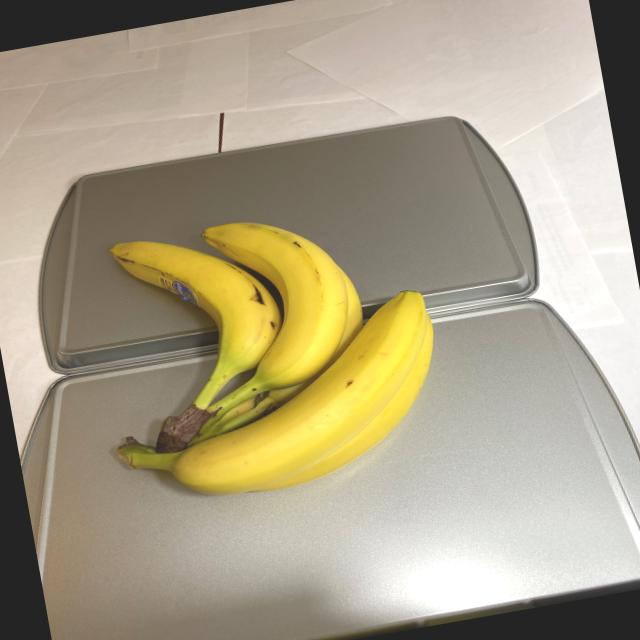banana: (93, 188, 460, 512)
